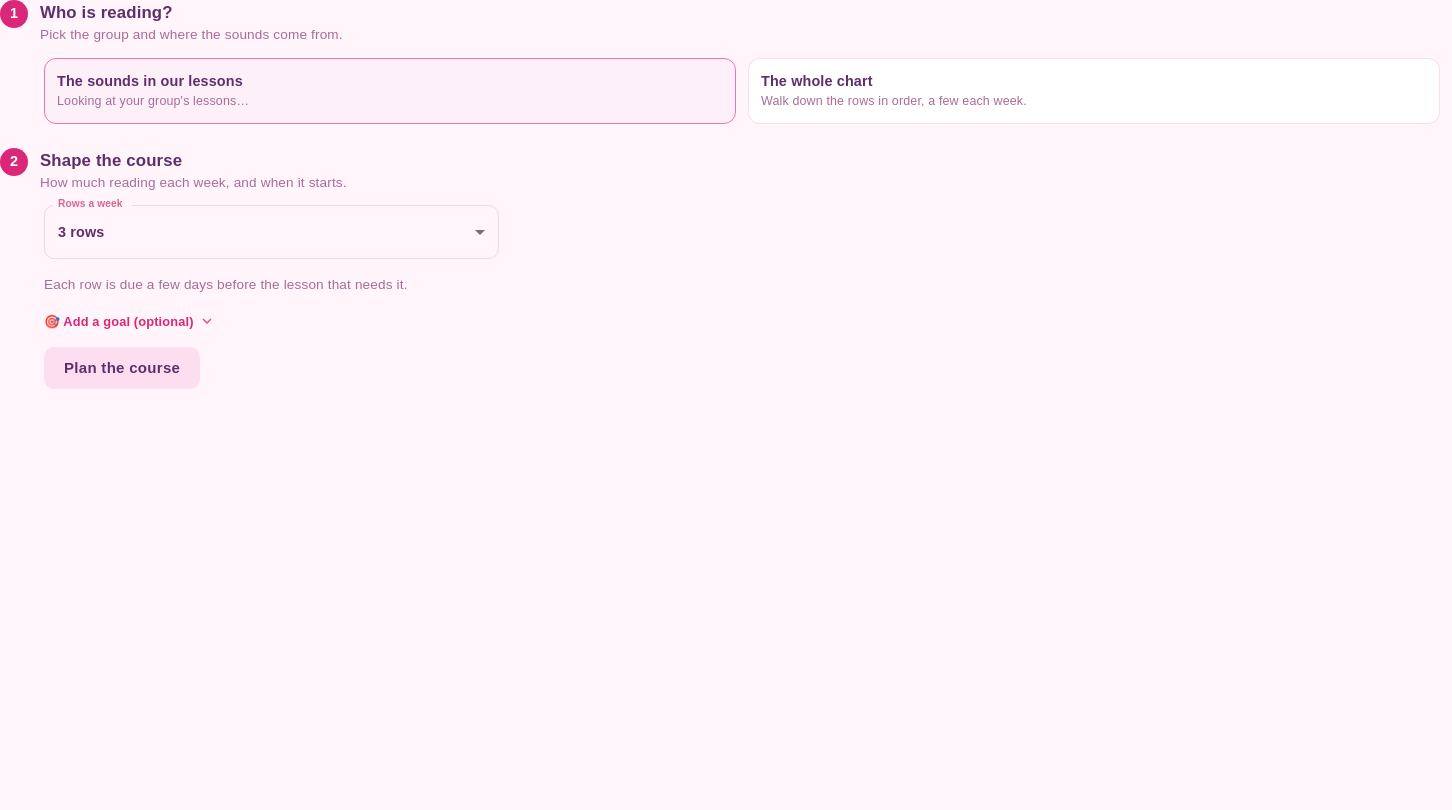
Test case: KanaCourseBuilder › says nothing landed rather than celebrating an empty hand-out
This screenshot has width=1452, height=810.
Click the text "The whole chart": (817, 81) [761,73,873,89]
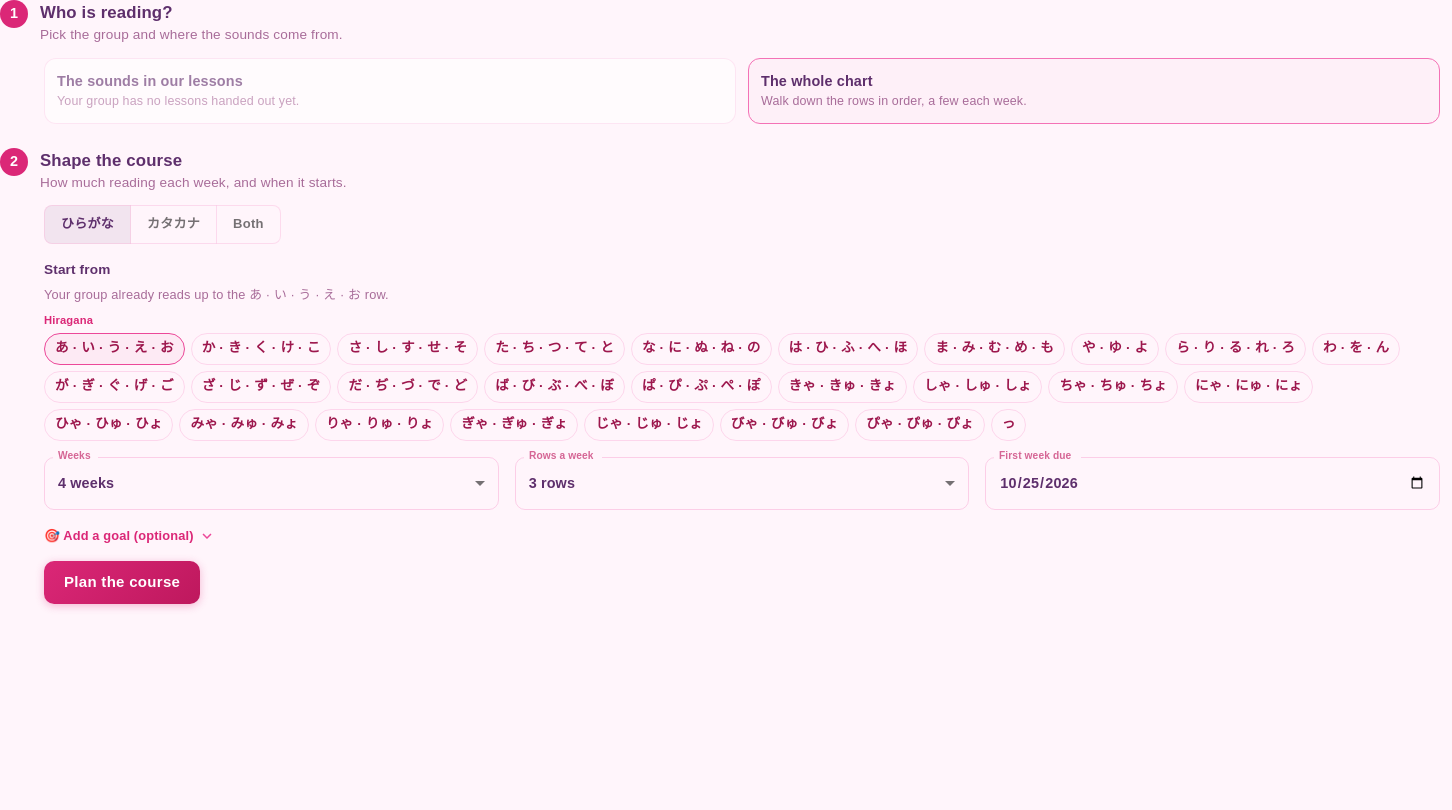
Click the button "Plan the course": (122, 583) [44,562,200,604]
(page scrolled)
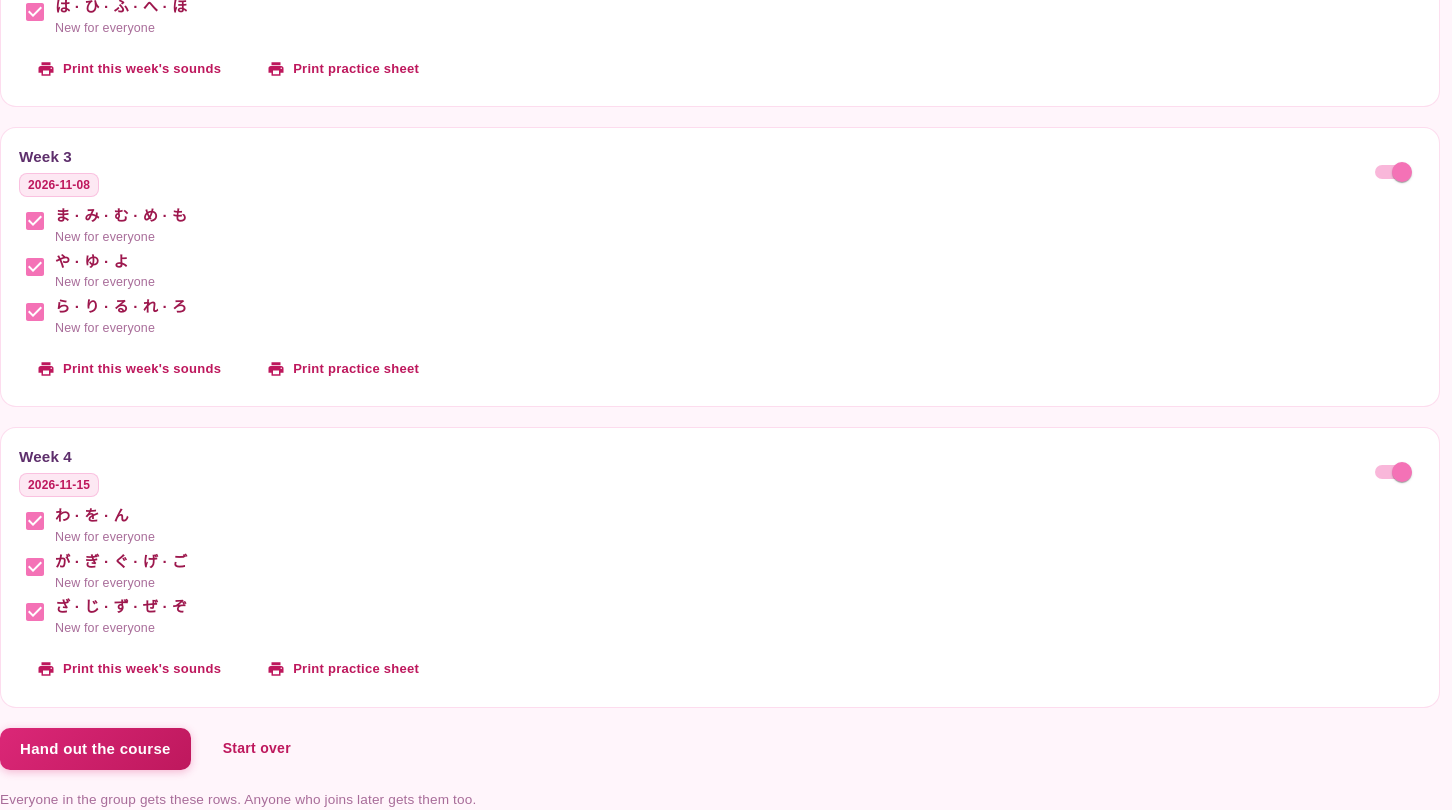
Click the button "Hand out the course": (95, 749) [0,728,191,770]
(page scrolled)
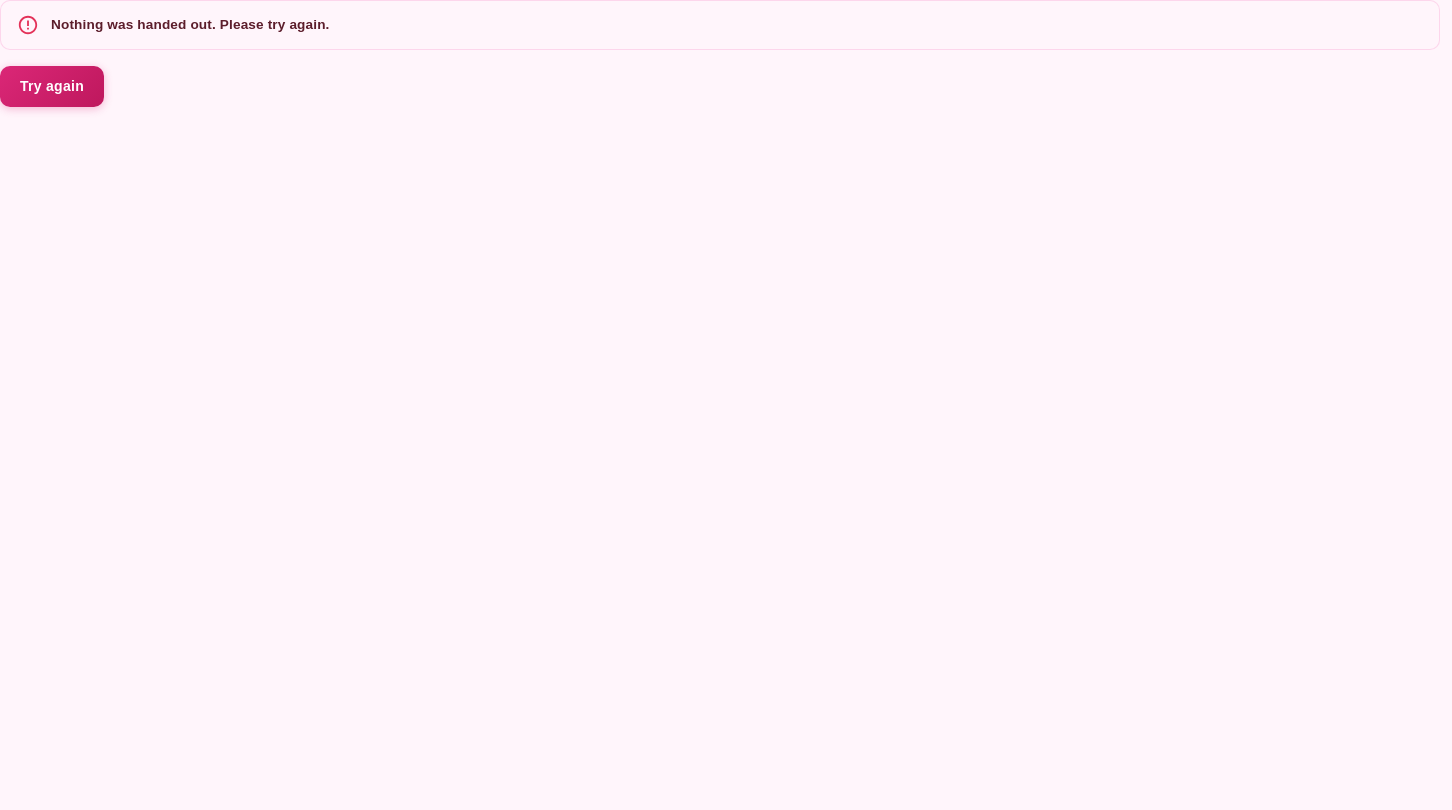
Result: the text "Nothing was handed out. Please try again." is shown at [51,17,330,32]
Result: the button "Try again" is shown at [0,66,104,106]
